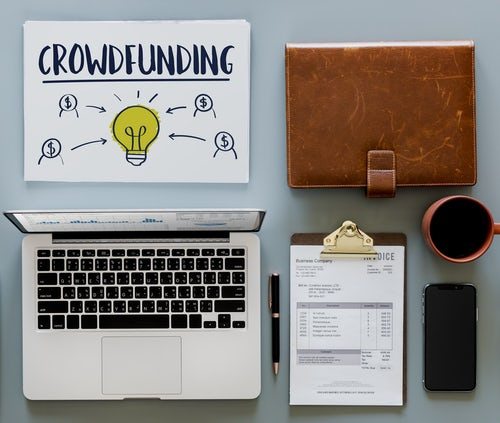phone: (421, 281, 480, 393)
